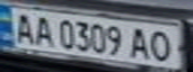0: (54, 16, 75, 50), (87, 20, 106, 55)
3: (72, 19, 90, 53)
9: (103, 23, 127, 57)
A: (6, 10, 39, 45), (127, 25, 154, 61), (30, 14, 57, 47)
O: (145, 28, 181, 62)
